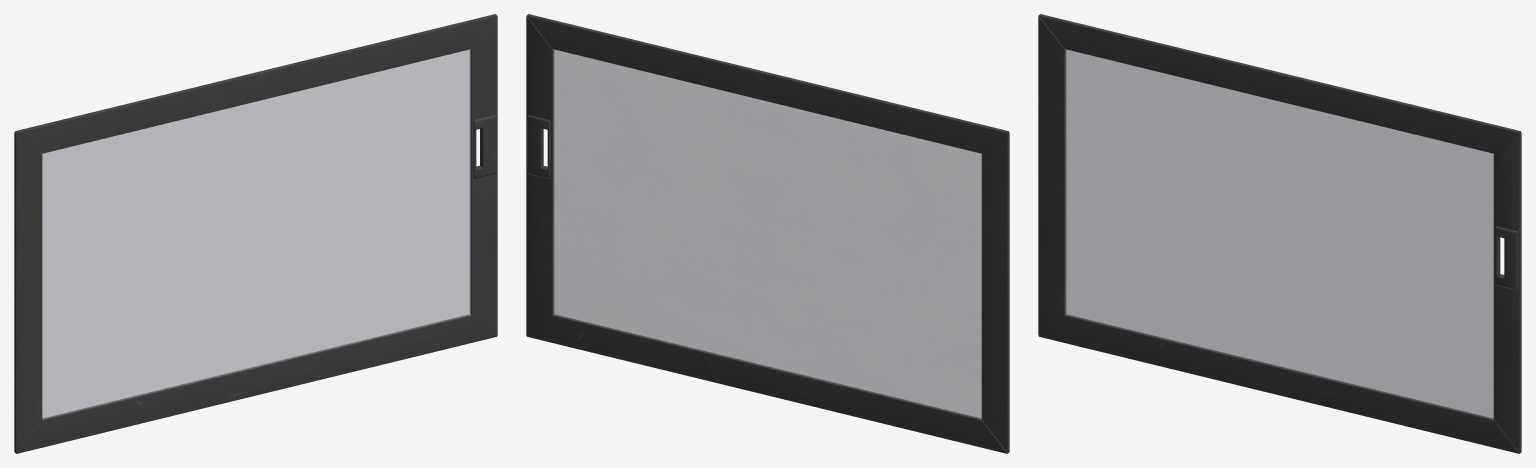
Rendered from SM_Gun_Display_02d.glb.
The picture shows the model from 3 angles, left to right: view 1: azimuth 30°, elevation 25°; view 2: azimuth 150°, elevation 25°; view 3: azimuth 330°, elevation 25°; orthographic projection.
Visible parts, largest first — view 1: SM_Gun_Display_02d; view 2: SM_Gun_Display_02d; view 3: SM_Gun_Display_02d.
Boxes of the visible parts, x1,y1,x2,y2 form: SM_Gun_Display_02d: (14,14,497,453); SM_Gun_Display_02d: (526,14,1009,453); SM_Gun_Display_02d: (1038,14,1521,453).
Size of the model in its own units: 1.33 by 0.8477 by 0.0164.
2 materials, 2 textured.
